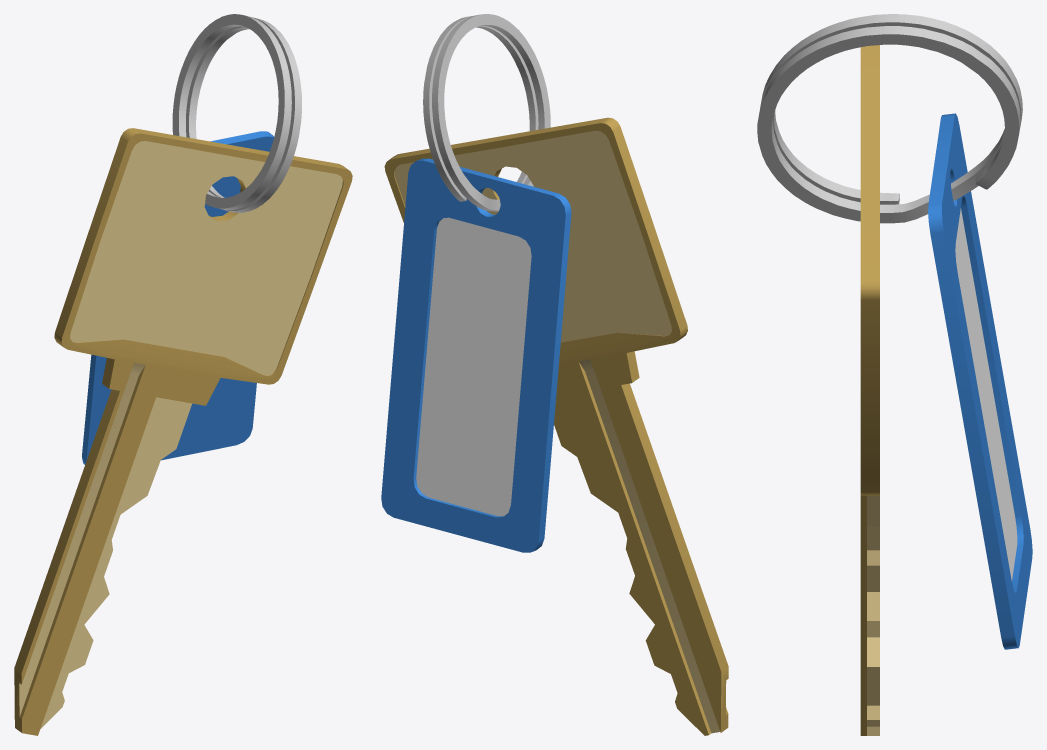
The model's file is Key2_with_tag.fbx.
3 renders of one model, left to right at view 1: azimuth 30°, elevation 25°; view 2: azimuth 150°, elevation 25°; view 3: azimuth 270°, elevation 25°, orthographic. The views are drawn at different scales.
Visible parts, largest first — view 1: Key2_with_tag.001; view 2: Key2_with_tag.001; view 3: Key2_with_tag.001.
Boxes of the visible parts, x1,y1,x2,y2 form: Key2_with_tag.001: (14, 14, 352, 735); Key2_with_tag.001: (381, 14, 728, 735); Key2_with_tag.001: (757, 14, 1032, 735).
Bounding box in the file's own units: 0.6151 × 1.15 × 0.3304.
